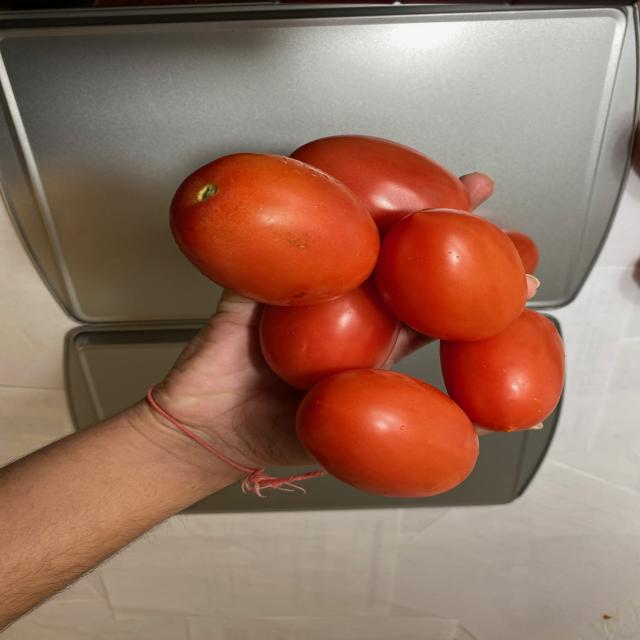tomato: (168, 130, 560, 496)
